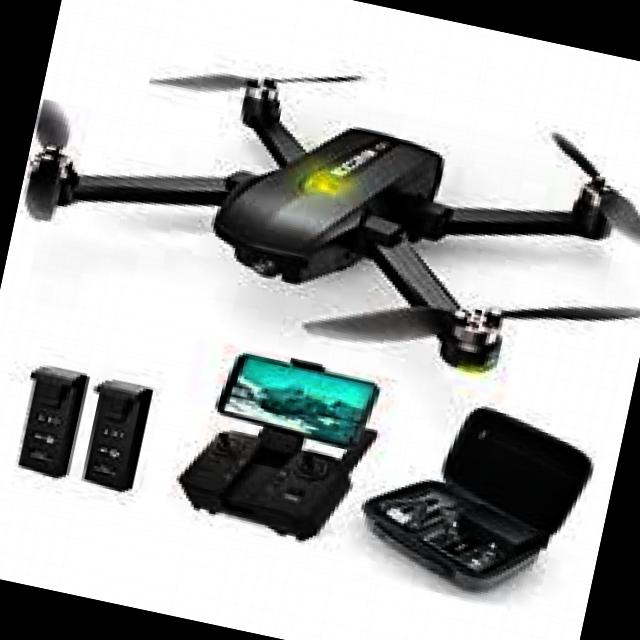drone: (2, 0, 640, 408)
